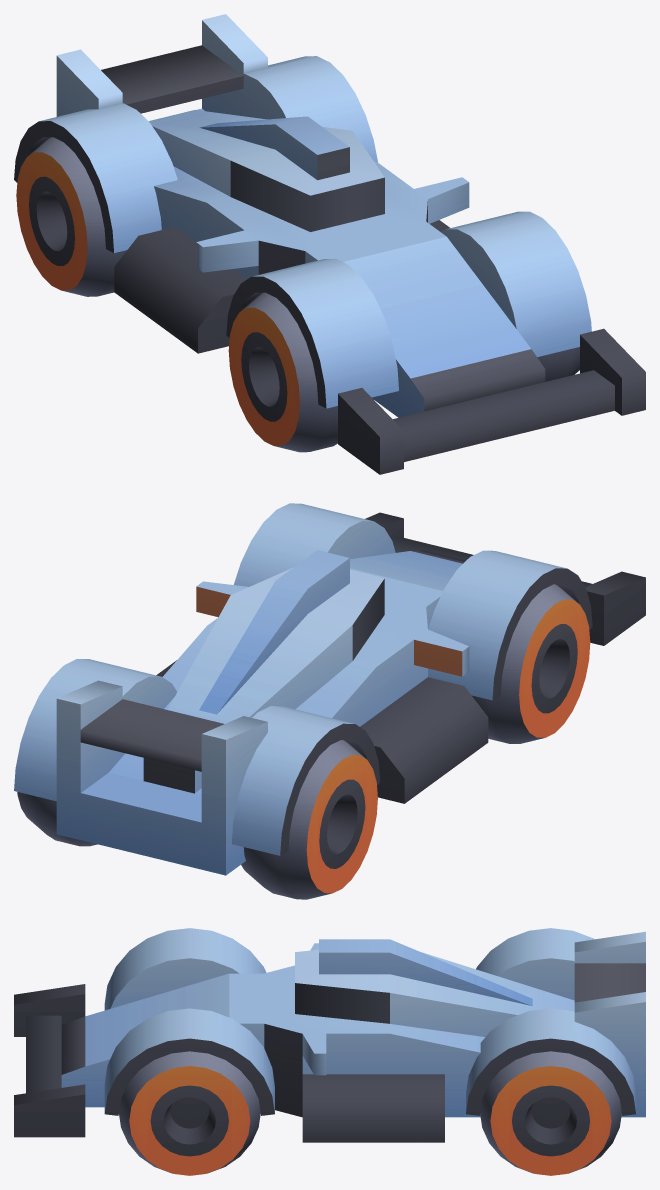
The model's file is race-future-transformed.glb.
3 views of the same model, one above another, from view 1: azimuth 30°, elevation 25°; view 2: azimuth 150°, elevation 25°; view 3: azimuth 270°, elevation 25° (orthographic). The views are drawn at different scales.
Parts seen in each view (by area): view 1: body; view 2: body; view 3: body.
Boxes of the visible parts, x1,y1,x2,y2 form: body: [14, 14, 645, 474]; body: [14, 503, 645, 899]; body: [14, 928, 645, 1175].
Size of the model in its own units: 1.2 by 0.8325 by 2.66.
Materials: 1 (1 with a texture image).
